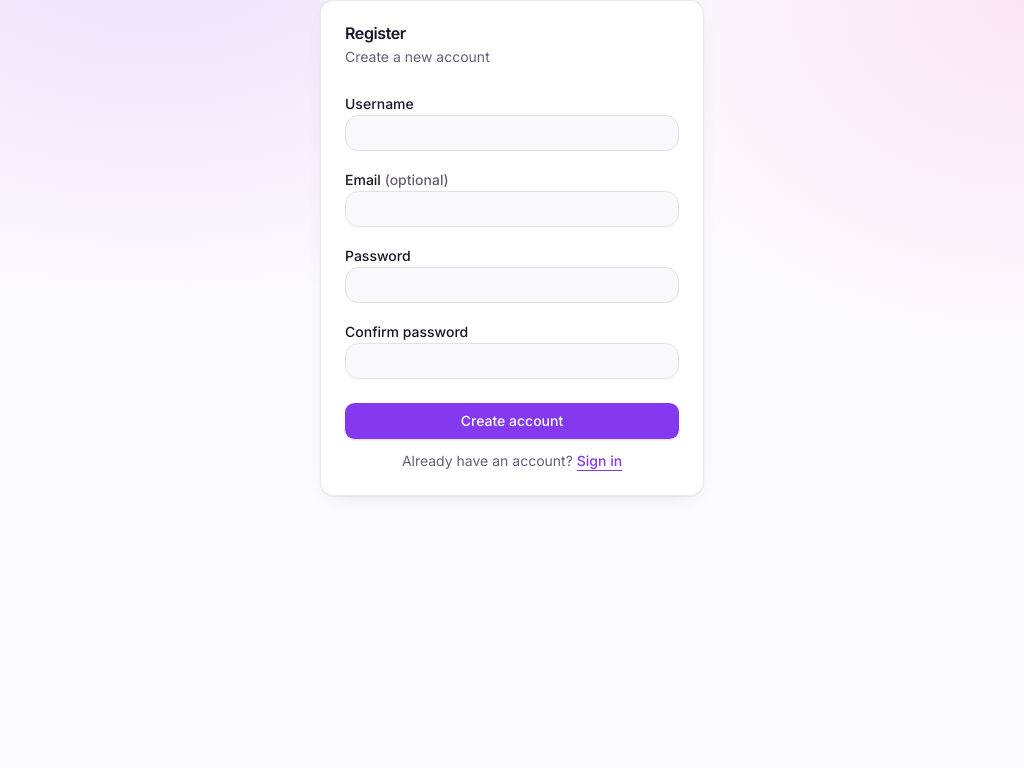
it: RegisterPage — the password rule › says the server's refusal in words, from its code
Type "alice" into the field labelled "Username" at (512, 133), box [345, 115, 679, 151]
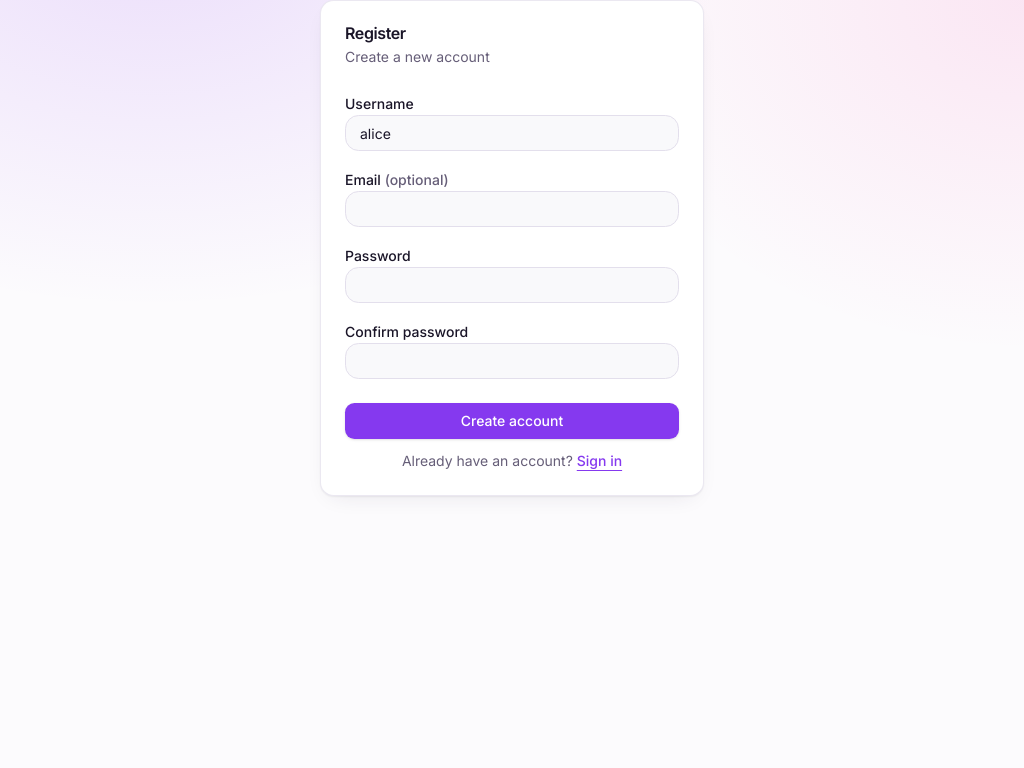
Type "long-enough" into the password field labelled "Password" at (512, 285), box [345, 267, 679, 303]
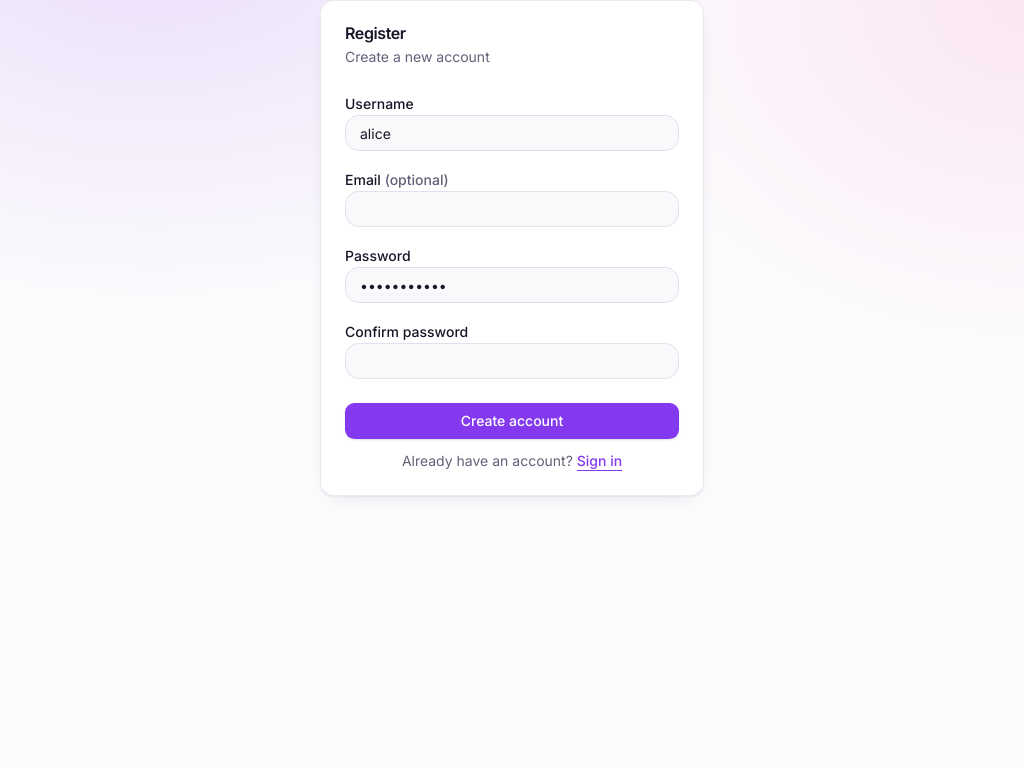
Type "long-enough" into the password field labelled "Confirm password" at (512, 361), box [345, 343, 679, 379]
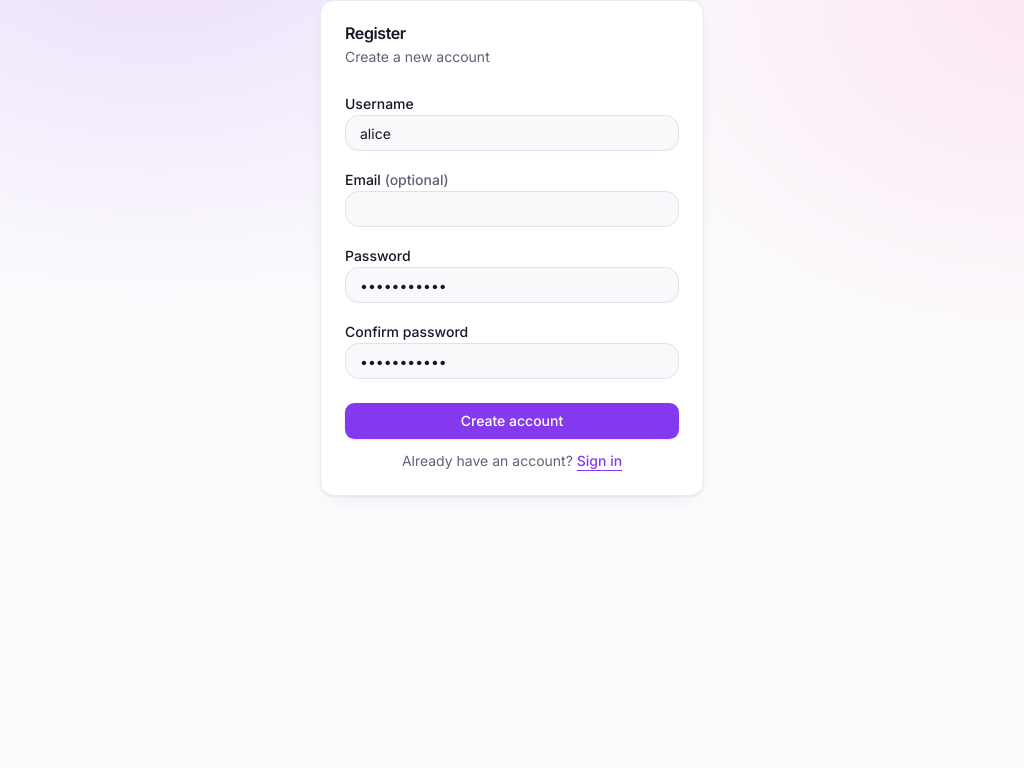
Click the button "Create account" at (512, 421), box [345, 403, 679, 439]
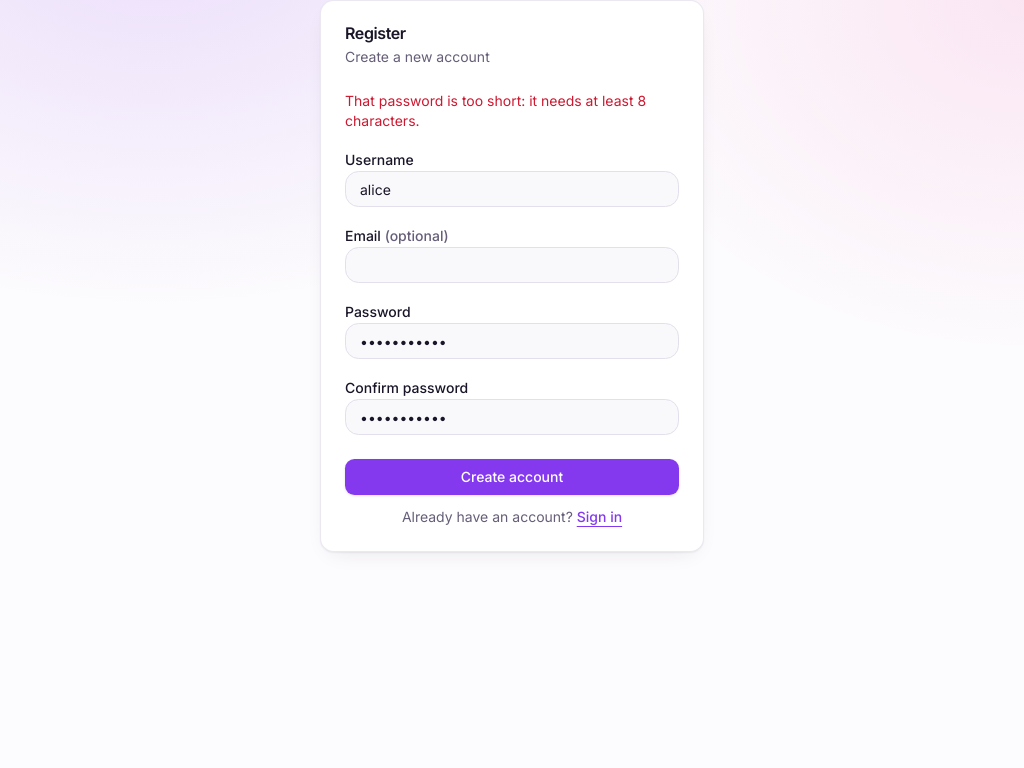
Expected: the text "That password is too short: it needs at least 8 characters." is shown, [345, 91, 679, 131]
